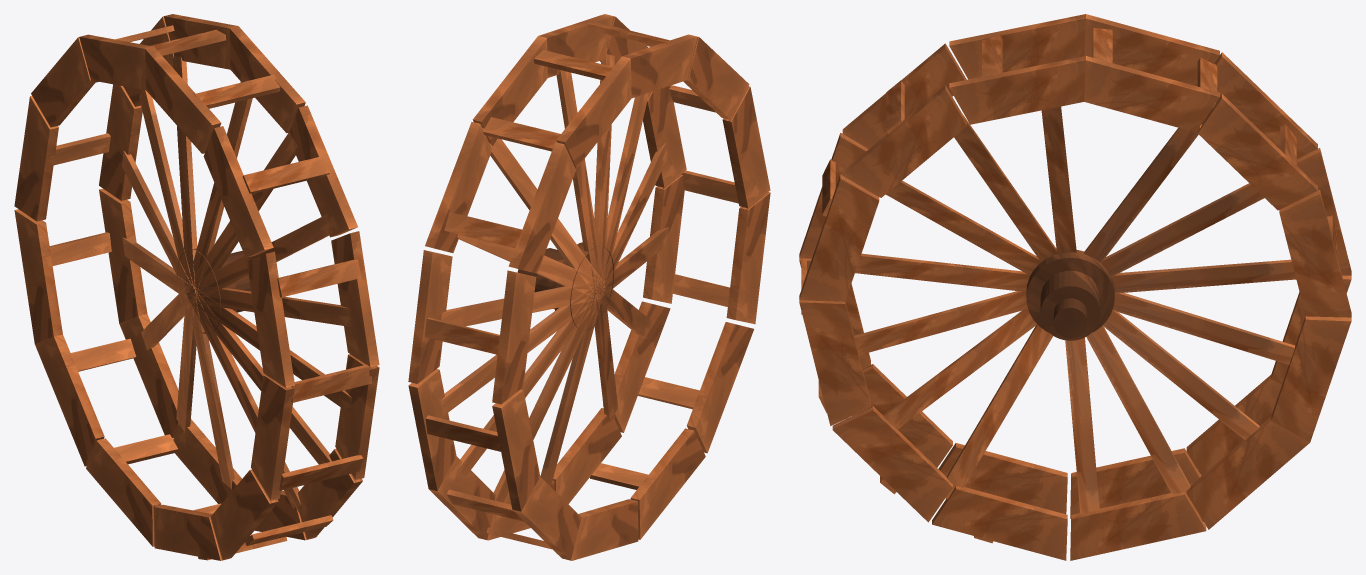
The model's file is O_wheel.fbx.
The picture shows the model from 3 angles, left to right: view 1: azimuth 30°, elevation 25°; view 2: azimuth 150°, elevation 25°; view 3: azimuth 270°, elevation 25°; orthographic projection. The views are drawn at different scales.
Parts seen in each view (by area): view 1: Cube.402, Cube.491, Cube.492, Cylinder; view 2: Cube.402, Cube.491, Cube.492, Cylinder; view 3: Cube.402, Cube.491, Cylinder, Cube.492.
Part boxes in pixels (<box>): Cube.402: <box>14,14,379,560</box>; Cube.491: <box>122,55,352,512</box>; Cube.492: <box>49,25,371,560</box>; Cylinder: <box>177,248,250,333</box>; Cube.402: <box>408,14,770,560</box>; Cube.491: <box>441,48,668,502</box>; Cube.492: <box>424,22,738,549</box>; Cylinder: <box>517,242,613,330</box>; Cube.402: <box>799,14,1351,560</box>; Cube.491: <box>854,106,1296,514</box>; Cylinder: <box>1026,250,1114,340</box>; Cube.492: <box>801,28,1336,543</box>.
Bounding box in the file's own units: 1360 × 5618 × 5618.
